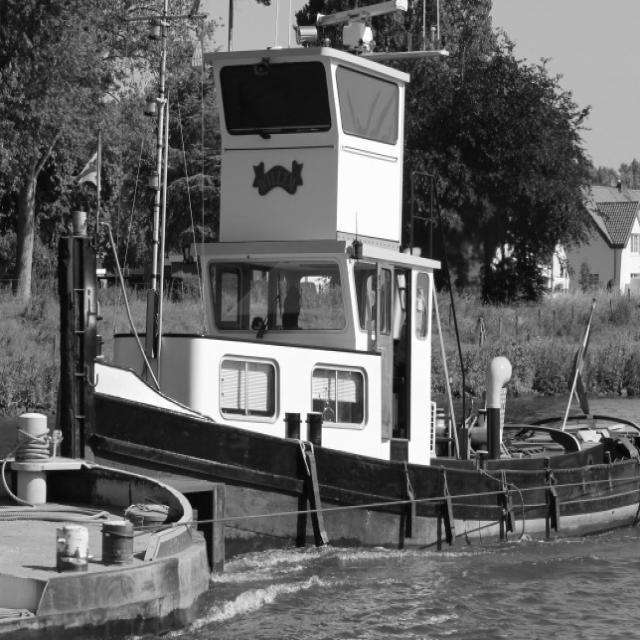tugboat: (27, 1, 640, 562)
